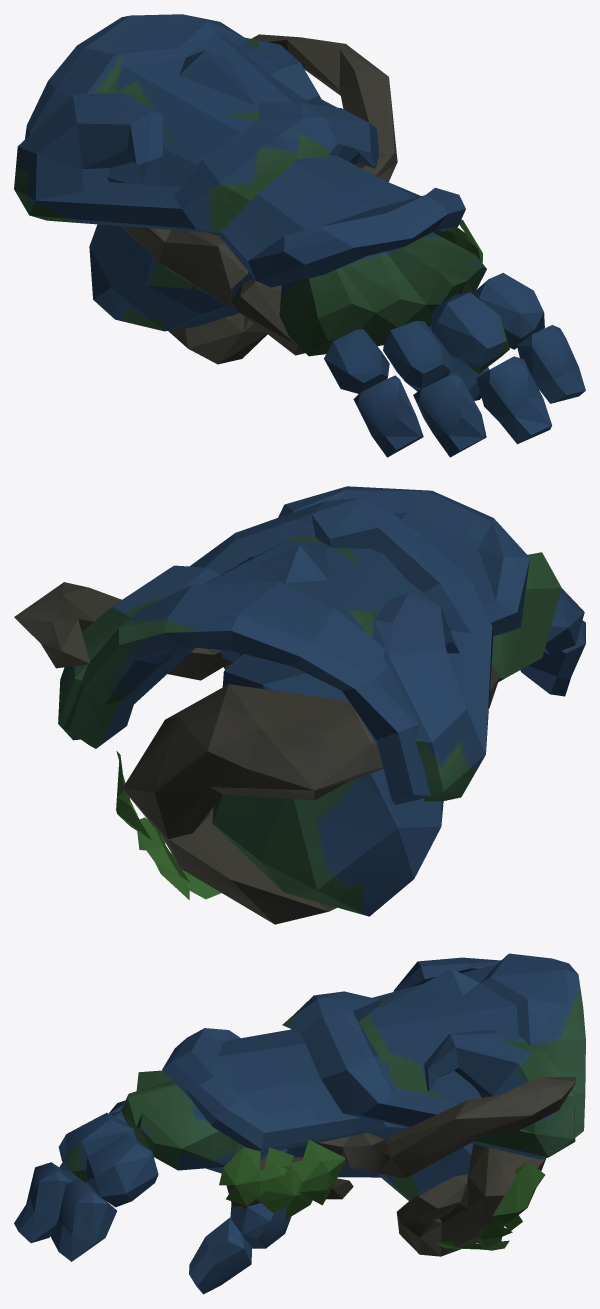
Rendered from Right_Hand_Fix.fbx.
3 views of the same model, one above another, from view 1: azimuth 30°, elevation 25°; view 2: azimuth 150°, elevation 25°; view 3: azimuth 270°, elevation 25° (orthographic). The views are drawn at different scales.
Parts seen in each view (by area): view 1: 3909_8, 3909_12, 3909_10, 3909_6; view 2: 3909_8, 3909_6, 3909_10, 3909_12; view 3: 3909_8, 3909_12, 3909_10, 3909_6.
Part boxes in pixels (x1,y1,x2,y2): 3909_8: (14, 14, 397, 233); 3909_12: (232, 219, 585, 457); 3909_10: (217, 154, 465, 287); 3909_6: (89, 178, 267, 364); 3909_8: (14, 497, 493, 804); 3909_6: (116, 654, 499, 924); 3909_10: (220, 486, 529, 662); 3909_12: (223, 552, 585, 696); 3909_8: (282, 953, 585, 1178); 3909_12: (14, 1070, 353, 1294); 3909_10: (162, 1028, 393, 1154); 3909_6: (301, 1127, 545, 1256).
Bounding box in the file's own units: 1275 × 1074 × 1989.
Materials: 1 (1 with a texture image).
